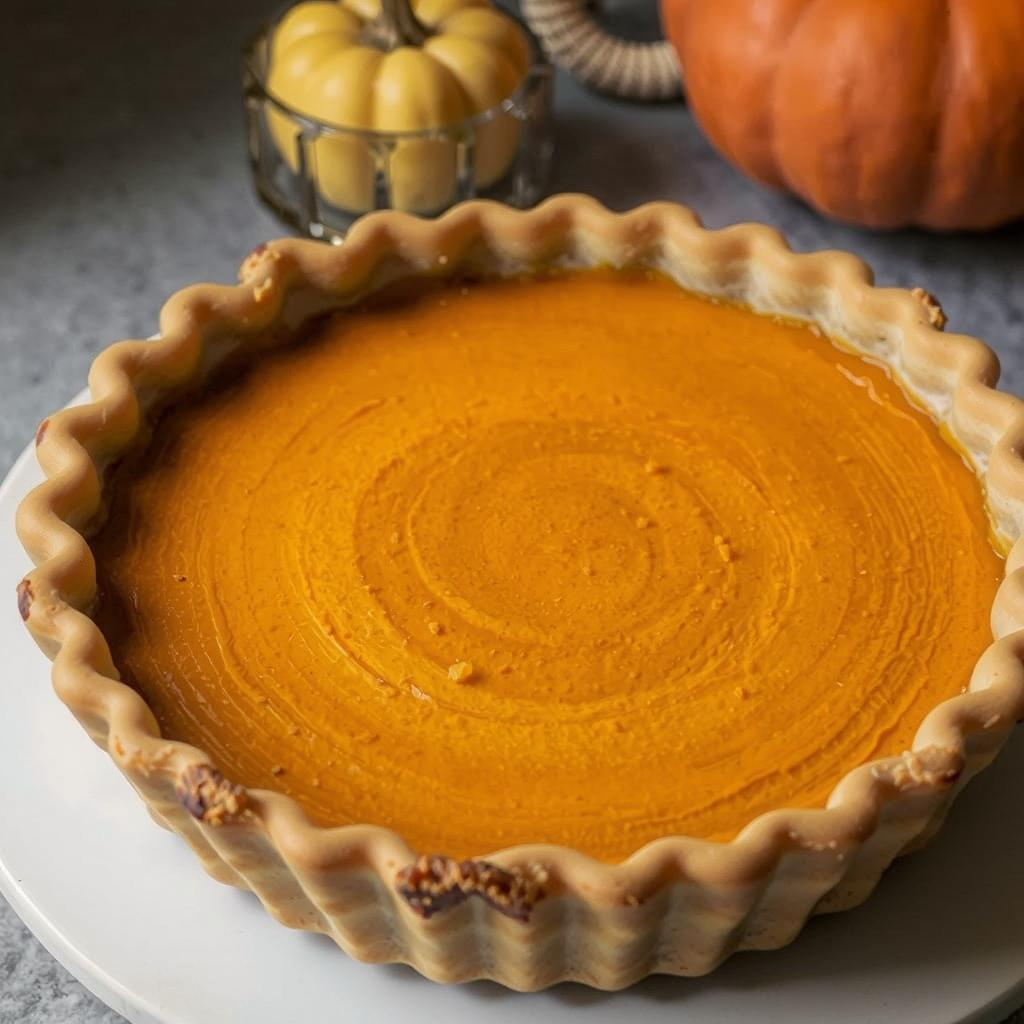pie: (3, 181, 1024, 1006)
